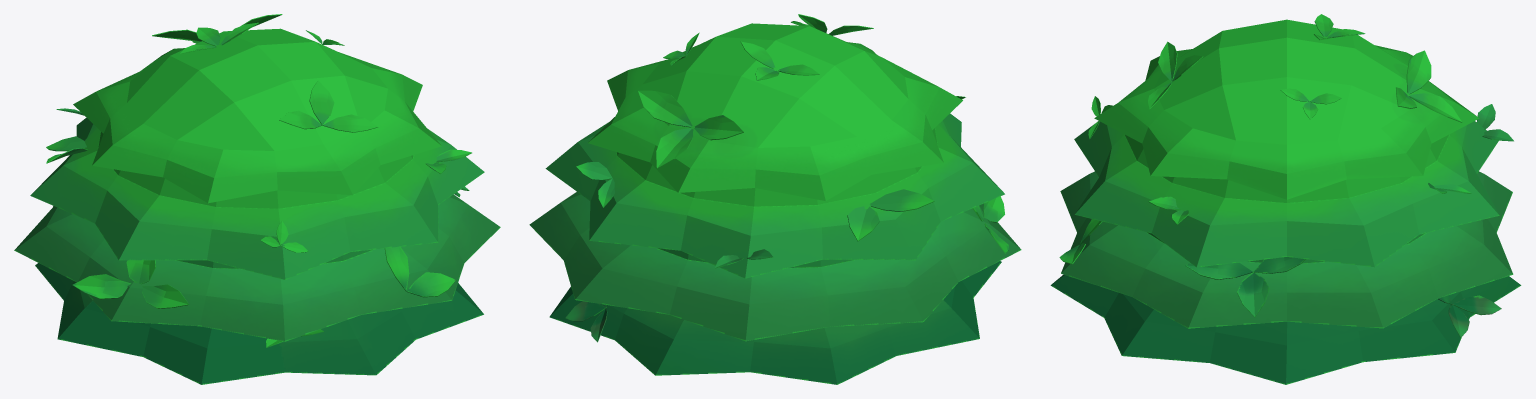
The model's file is bush_2.fbx.
3 renders of one model, left to right at view 1: azimuth 30°, elevation 25°; view 2: azimuth 150°, elevation 25°; view 3: azimuth 270°, elevation 25°, orthographic.
Visible parts, largest first — view 1: Bush; view 2: Bush; view 3: Bush.
Part boxes in pixels (x1,y1,x2,y2): Bush: (14, 14, 500, 384); Bush: (529, 14, 1021, 384); Bush: (1050, 14, 1521, 384).
Size of the model in its own units: 234 by 148 by 231.
Materials: 1 (1 with a texture image).
